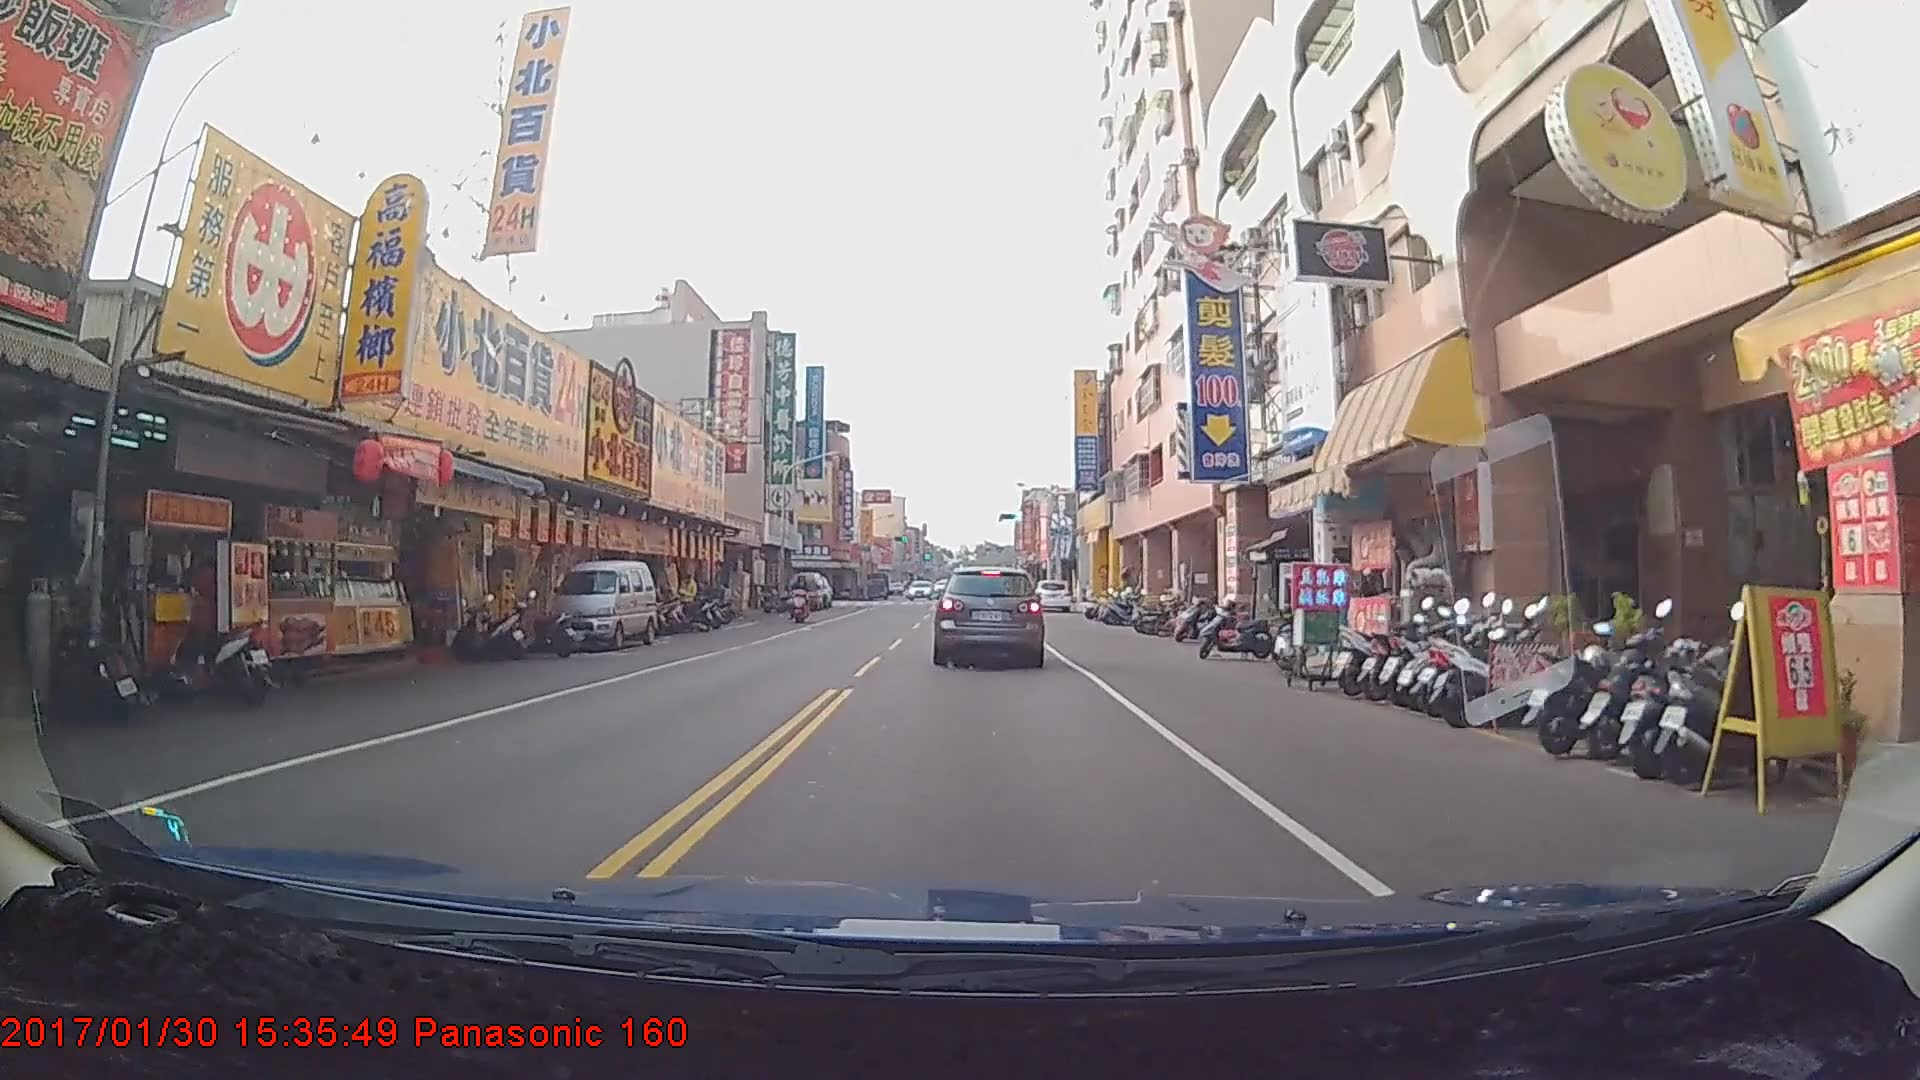pedestrian: (672, 573, 698, 628)
rider: (791, 573, 816, 626)
vehicle: (932, 563, 1047, 669), (545, 560, 657, 650), (787, 571, 824, 611), (1031, 580, 1071, 613)
